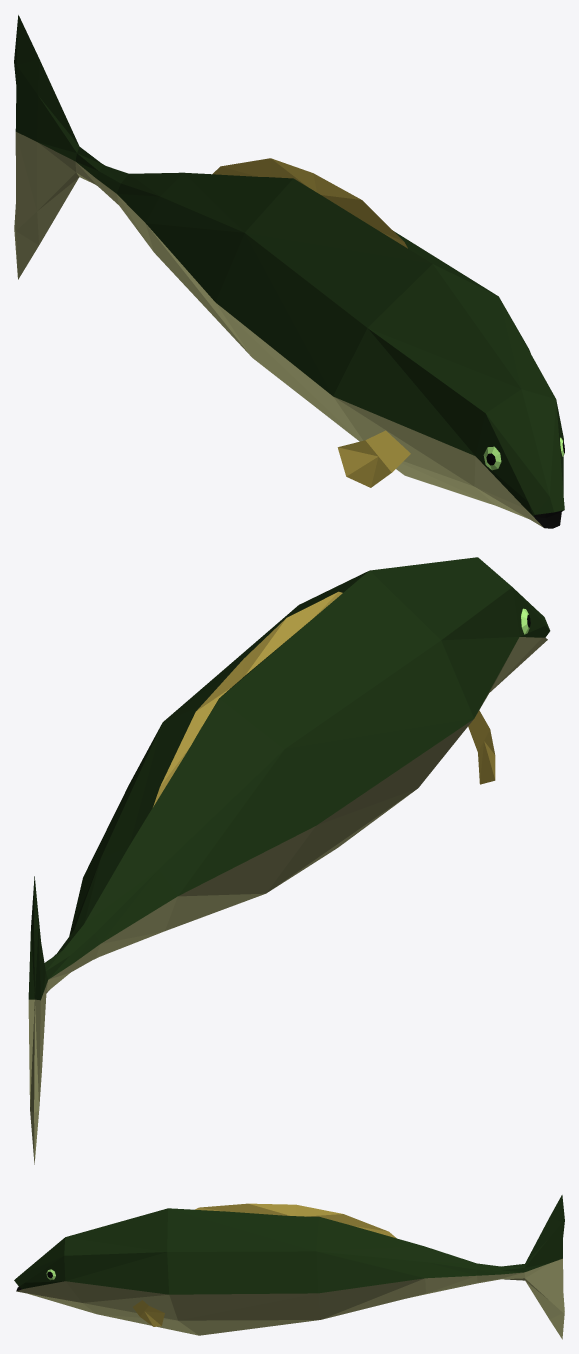
The model's file is Minnow_000008.obj.
3 views of the same model, one above another, from view 1: azimuth 30°, elevation 25°; view 2: azimuth 150°, elevation 25°; view 3: azimuth 270°, elevation 25° (orthographic). The views are drawn at different scales.
Size of the model in its own units: 0.7016 by 0.9146 by 3.02.
